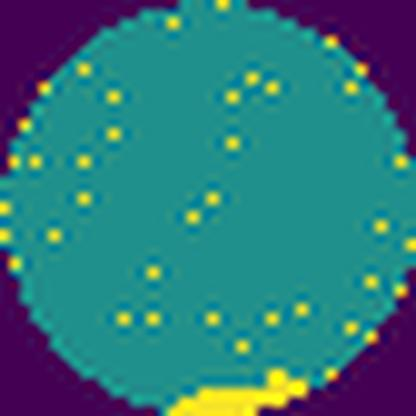Edge-Loc: (160, 362, 314, 416)
